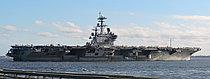MIL_Ship: (5, 11, 202, 62)
